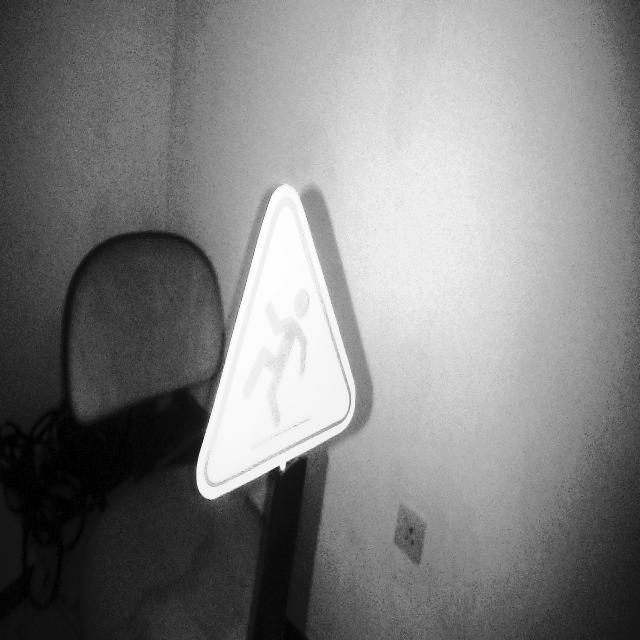Sign: (194, 181, 357, 504)
